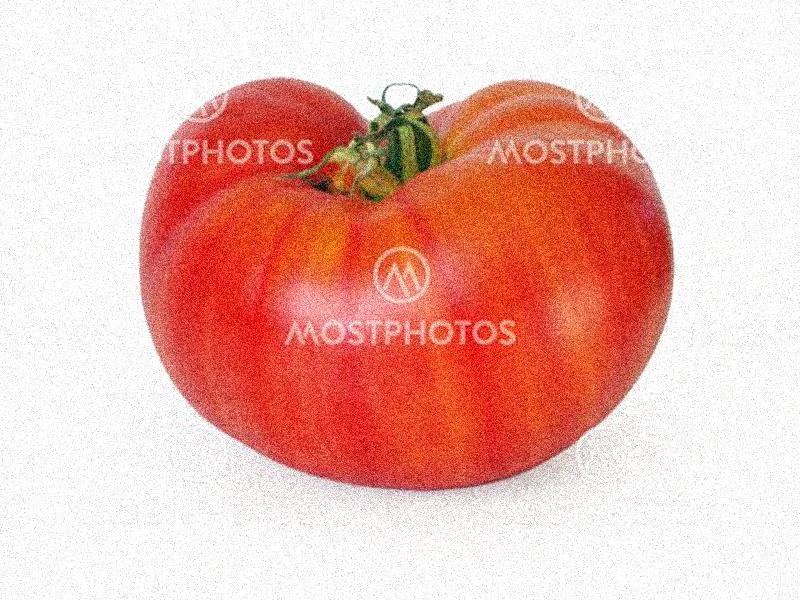Tomato: (141, 77, 673, 488)
